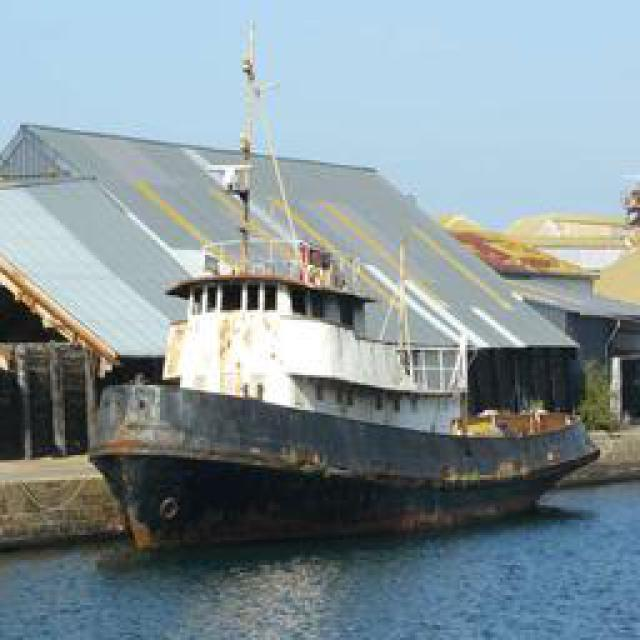Ship: (26, 41, 604, 541)
